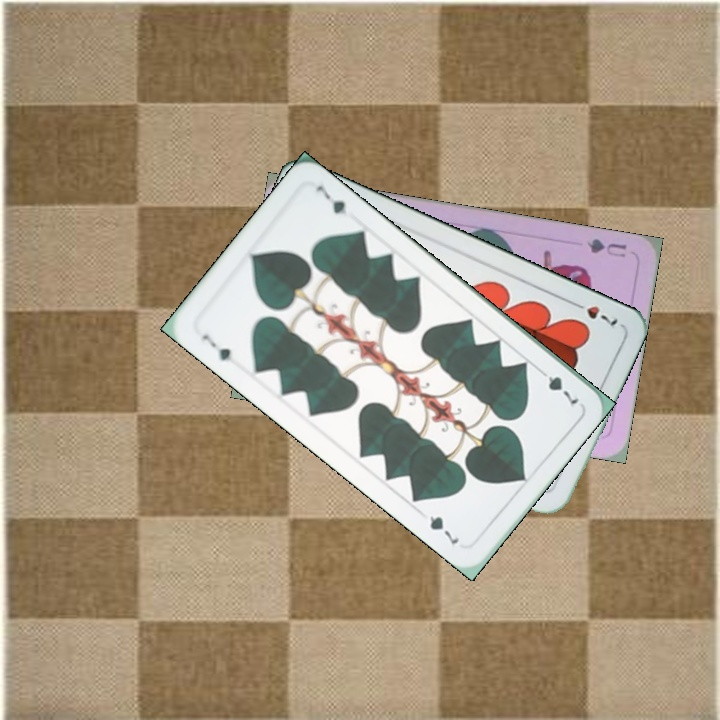G7: (533, 364, 582, 410), (198, 330, 234, 364)
GU: (582, 235, 629, 260)
H7: (567, 297, 621, 329)
